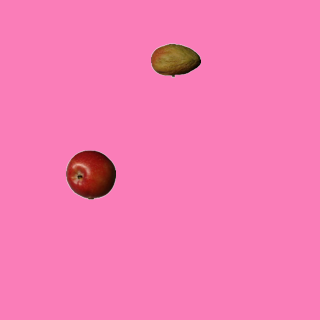Apple Braeburn: (65, 149, 115, 199)
Papaya: (150, 35, 200, 85)
